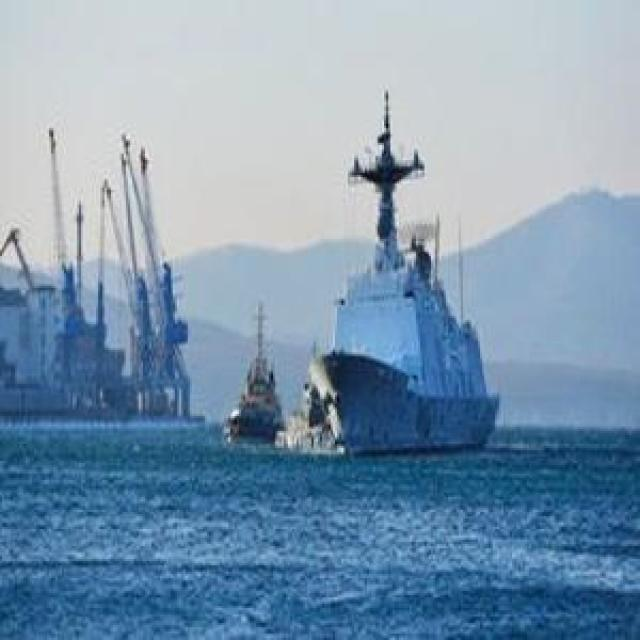navalvessels: (310, 88, 499, 454), (222, 297, 282, 444), (285, 341, 338, 456)
